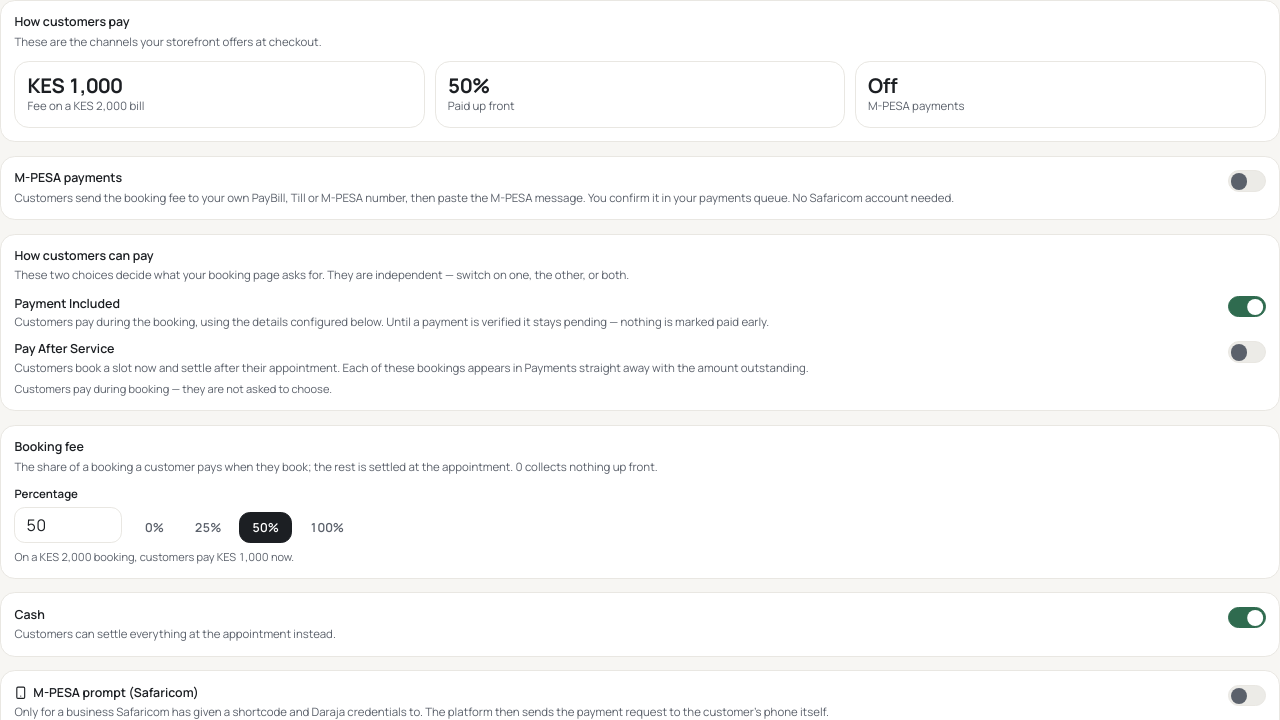
PaymentsSettings › shows the server’s refusal when the saved pair is rejected
Click the switch named "Pay After Service". click: x=1247, y=352
box: [1228, 341, 1266, 363]
(page scrolled)
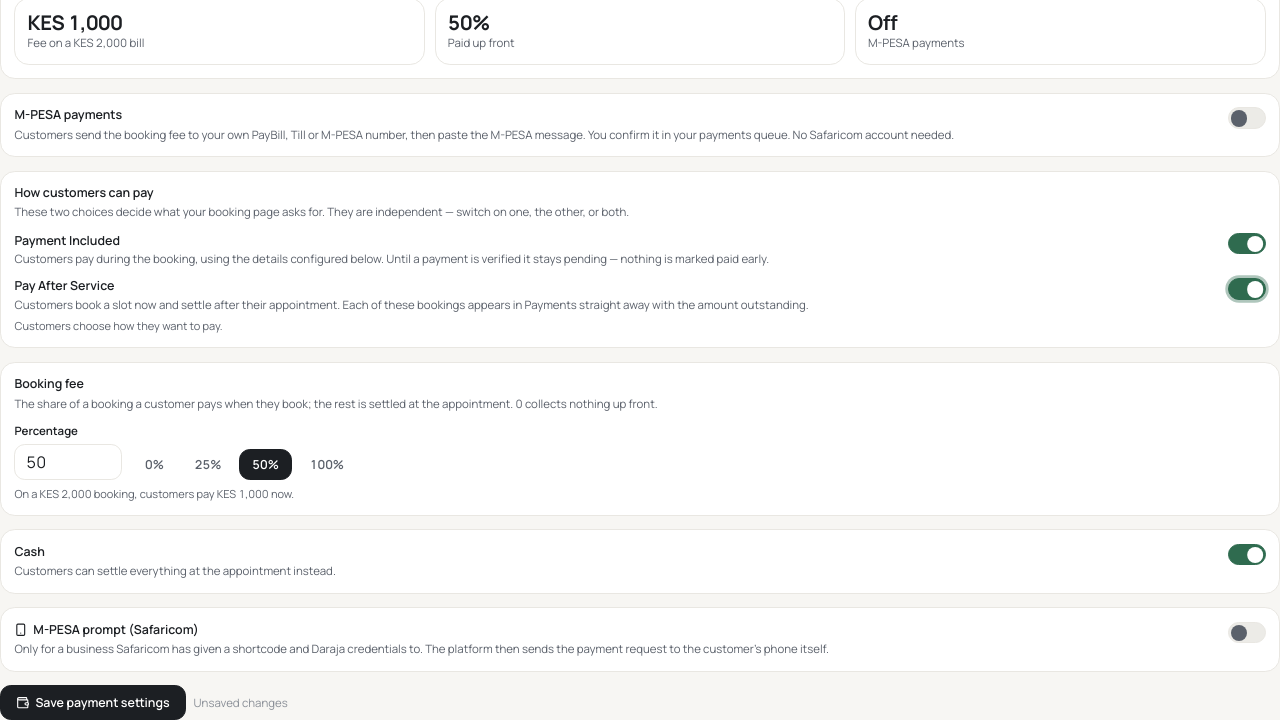
Click the button "Save payment settings". click: x=93, y=703
box: [0, 685, 186, 719]
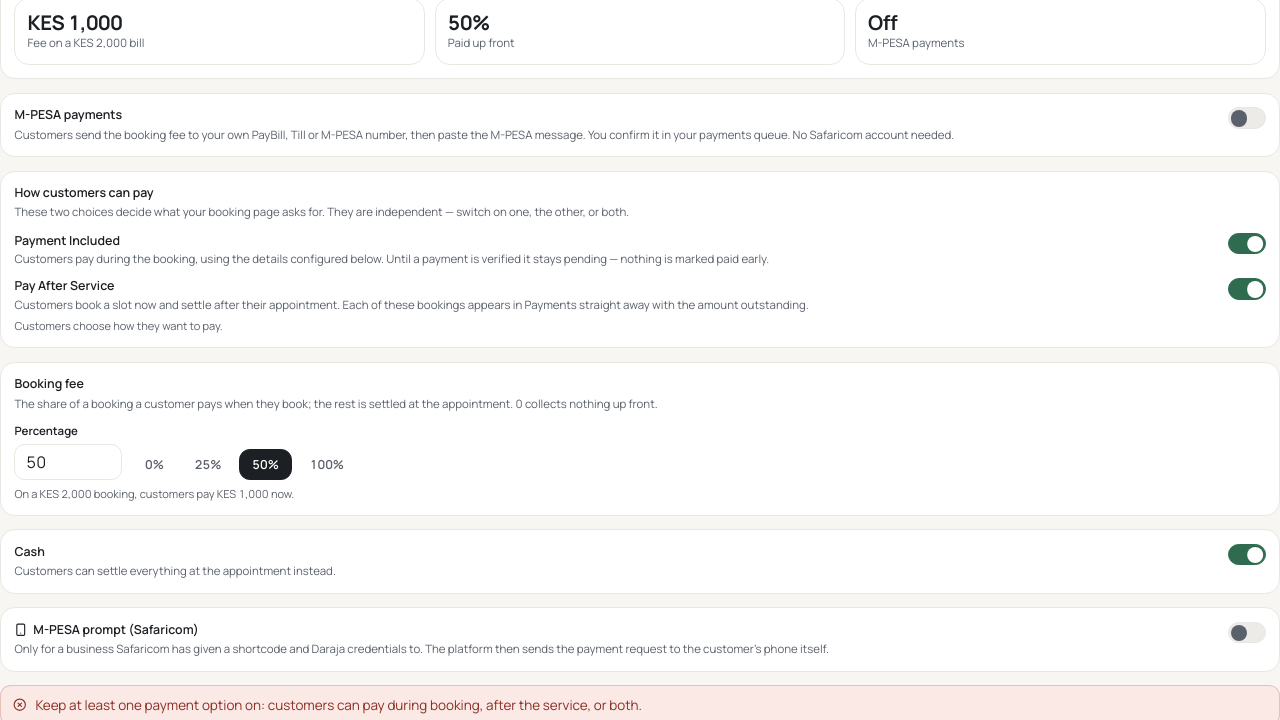
Expected: the text "Keep at least one payment option on" is shown, [35, 696, 642, 714]
